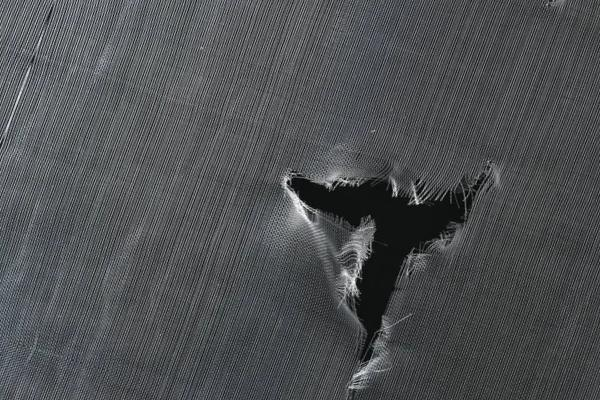hole: (277, 161, 509, 396)
